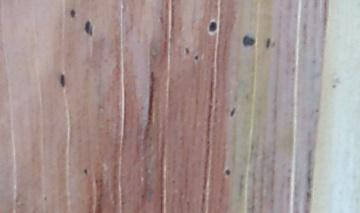tarspot: (242, 34, 256, 47), (83, 18, 93, 36), (207, 20, 217, 34), (59, 72, 65, 87), (223, 168, 232, 177), (183, 45, 191, 55), (70, 9, 77, 20), (265, 37, 271, 49), (82, 167, 89, 175), (231, 107, 236, 116), (193, 54, 199, 60)
